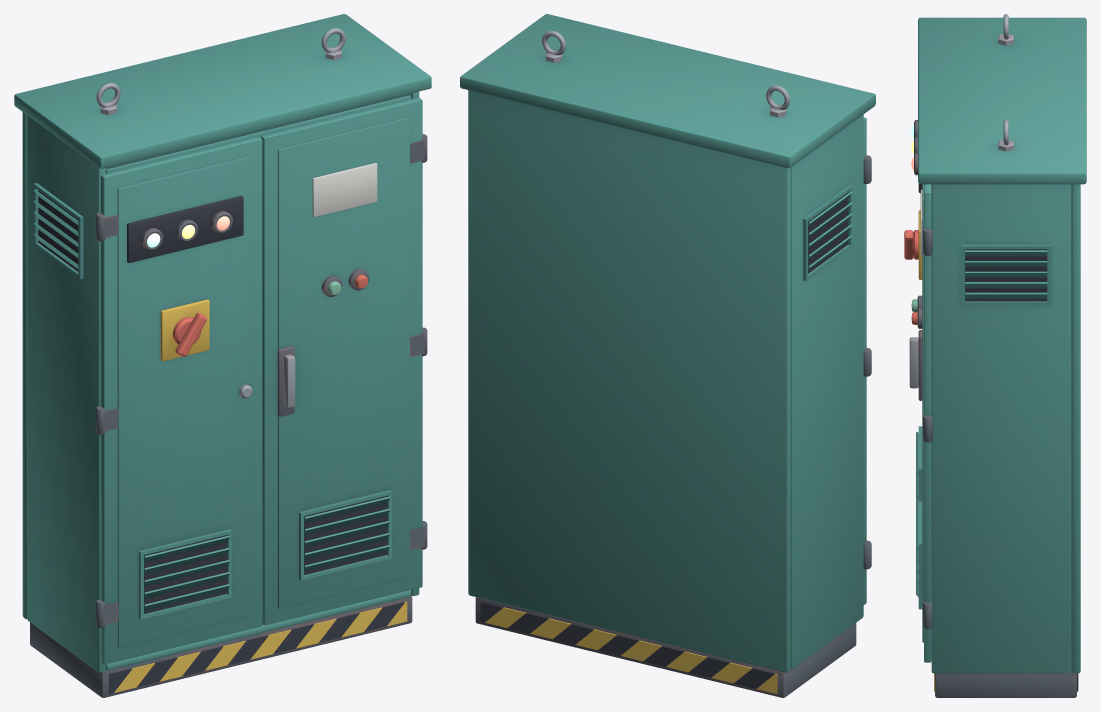
Rendered from electrical-cabinet.glb.
The picture shows the model from 3 angles, left to right: view 1: azimuth 30°, elevation 25°; view 2: azimuth 150°, elevation 25°; view 3: azimuth 270°, elevation 25°; orthographic projection. The views are drawn at different scales.
Visible parts, largest first — view 1: electrical-cabinet_body, electrical-cabinet_door_left, electrical-cabinet_door_right; view 2: electrical-cabinet_body, electrical-cabinet_door_left; view 3: electrical-cabinet_body, electrical-cabinet_door_right, electrical-cabinet_door_left.
Part boxes in pixels (box(x1,y1,x2,y2)): electrical-cabinet_body: box(14, 14, 431, 697); electrical-cabinet_door_left: box(96, 136, 262, 664); electrical-cabinet_door_right: box(261, 97, 427, 625); electrical-cabinet_body: box(460, 14, 875, 697); electrical-cabinet_door_left: box(863, 117, 871, 604); electrical-cabinet_body: box(918, 14, 1086, 697); electrical-cabinet_door_right: box(909, 184, 932, 662); electrical-cabinet_door_left: box(904, 120, 922, 507).
Size of the model in its own units: 1.24 by 2.06 by 0.611.
Materials: 6 (3 with a texture image).
